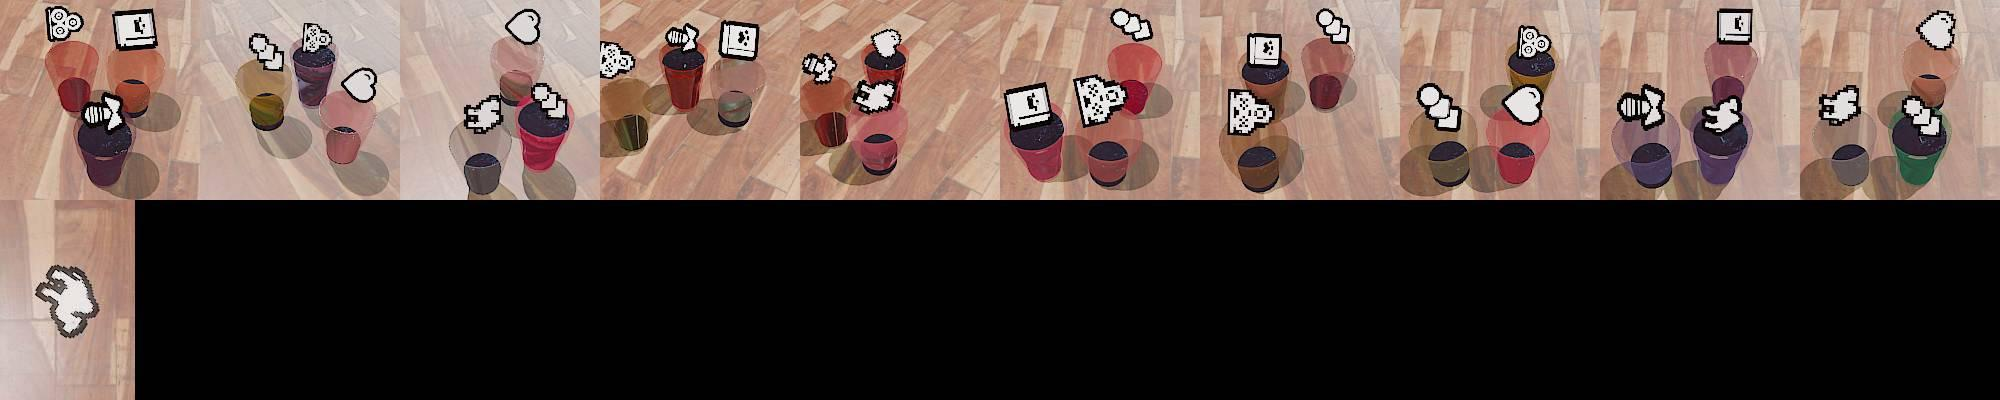icon: (32, 263, 100, 338), (1070, 73, 1129, 127), (1004, 82, 1056, 132), (1417, 81, 1464, 131), (1619, 84, 1668, 130), (1227, 87, 1273, 135), (111, 9, 159, 52), (1901, 93, 1945, 136), (1501, 83, 1546, 125), (81, 91, 126, 130), (1818, 84, 1861, 124), (1916, 10, 1957, 51), (719, 20, 760, 61), (463, 93, 505, 133), (852, 78, 897, 115), (1701, 94, 1742, 134), (248, 32, 286, 72), (1110, 8, 1152, 43), (531, 81, 569, 119), (45, 6, 84, 43), (1715, 8, 1753, 45), (505, 8, 542, 46), (599, 40, 635, 79), (1515, 24, 1552, 61), (340, 66, 378, 102), (800, 51, 839, 86), (663, 22, 702, 55), (1247, 32, 1282, 67), (1316, 8, 1350, 44), (870, 28, 904, 60), (302, 21, 333, 54)
